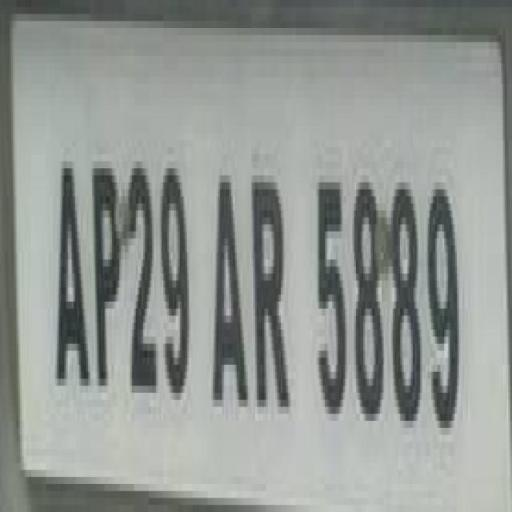number plate: (16, 21, 512, 511)
